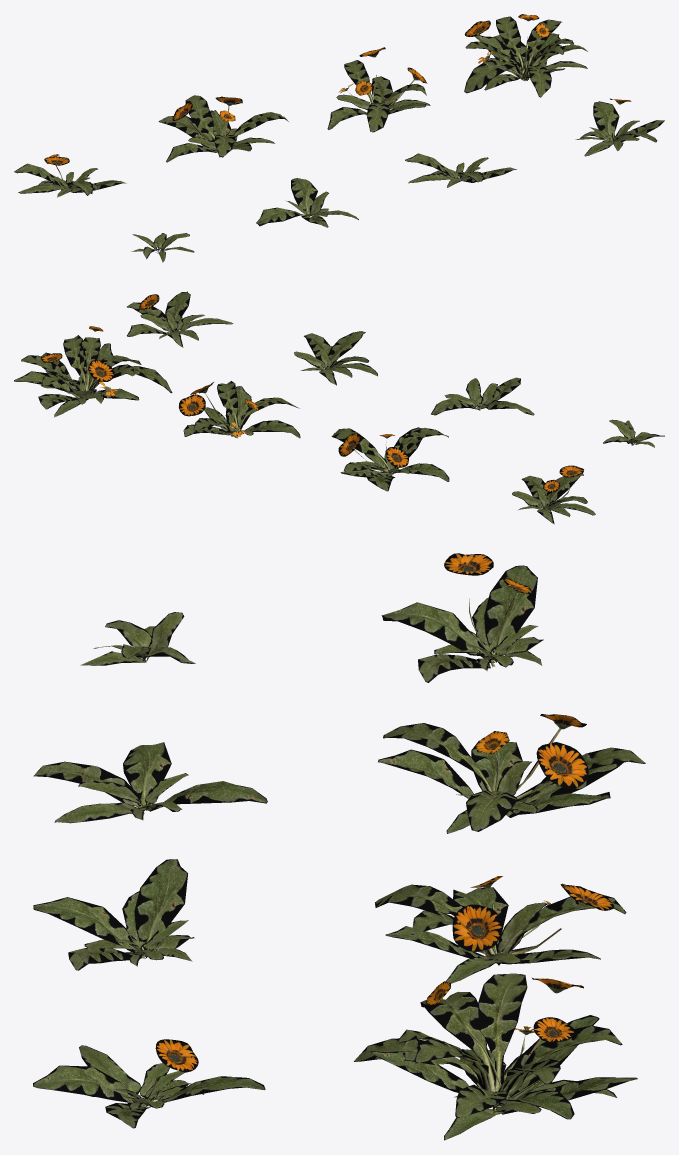
The model's file is flower_gazania.glb.
The picture shows the model from 3 angles, top to bottom: view 1: azimuth 30°, elevation 25°; view 2: azimuth 150°, elevation 25°; view 3: azimuth 270°, elevation 25°; orthographic projection. The views are drawn at different scales.
Visible parts, largest first — view 1: flower_gazania_a_LOD0; view 2: flower_gazania_a_LOD0; view 3: flower_gazania_a_LOD0.
Part boxes in pixels (x1,y1,x2,y2): flower_gazania_a_LOD0: [14, 14, 664, 262]; flower_gazania_a_LOD0: [14, 291, 664, 524]; flower_gazania_a_LOD0: [33, 553, 645, 1140].
Size of the model in its own units: 1.48 by 0.1656 by 0.7015.
Materials: 1 (1 with a texture image).
